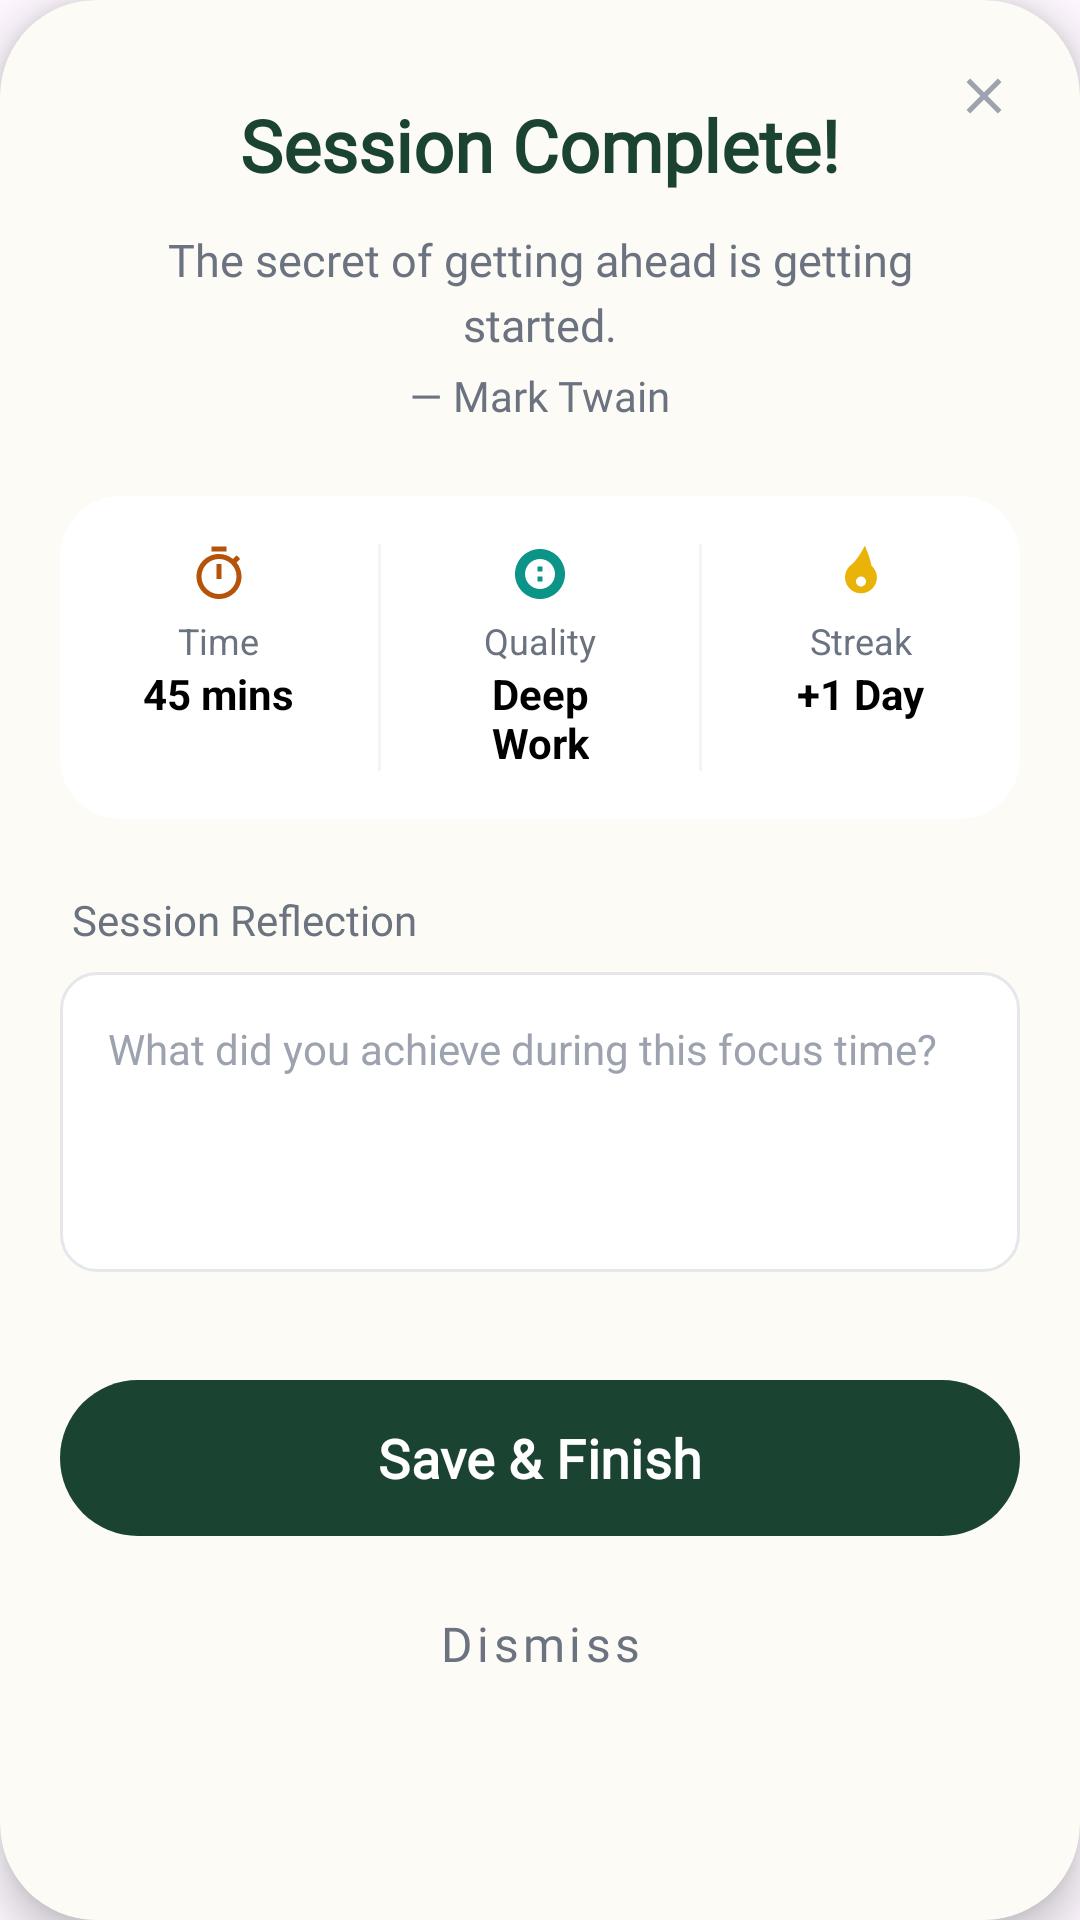

Named icons in this screenshot (1080×1920) and their bounding boxes, Rect(x1, y1, x2, y2):
Close Dialog: Rect(967, 79, 1001, 113)
